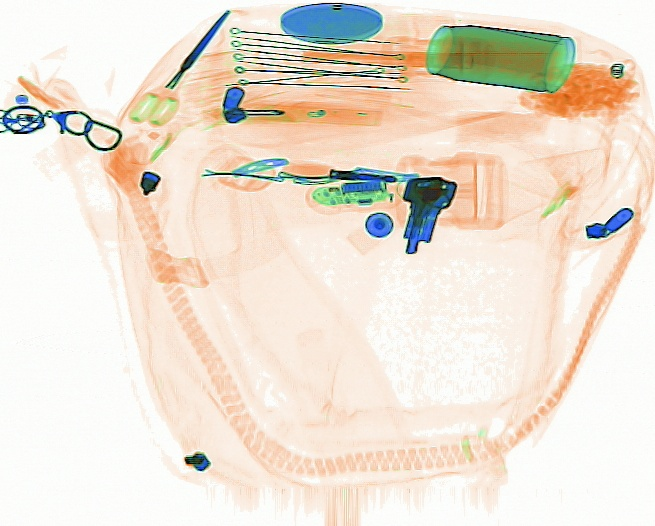scissors: (127, 6, 233, 127)
